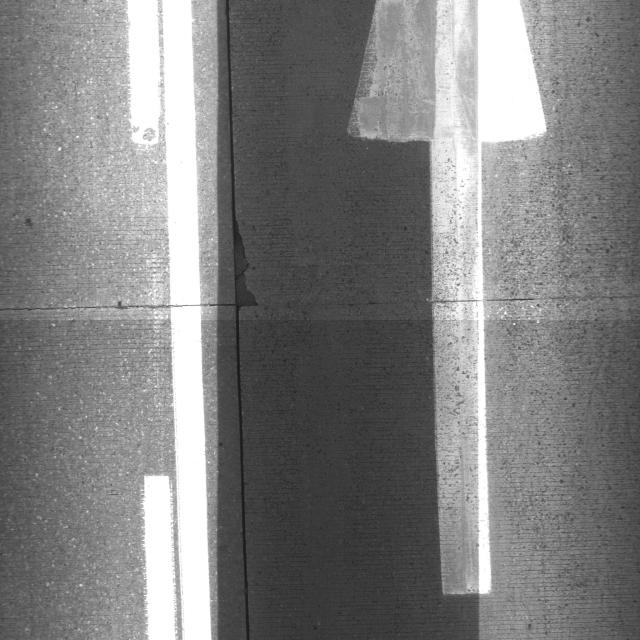forward: (160, 0, 640, 605)
